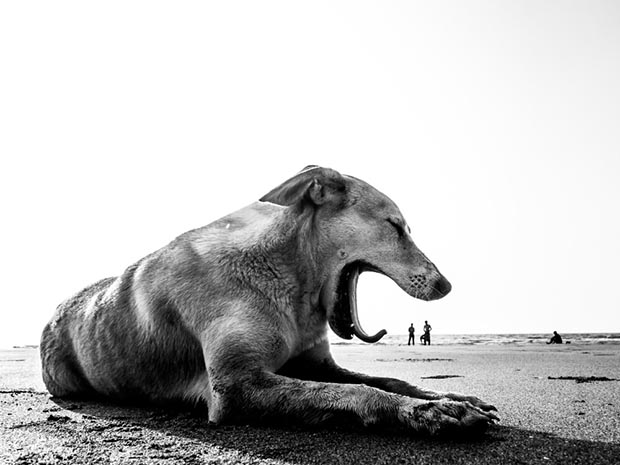Dog: (9, 160, 528, 444)
